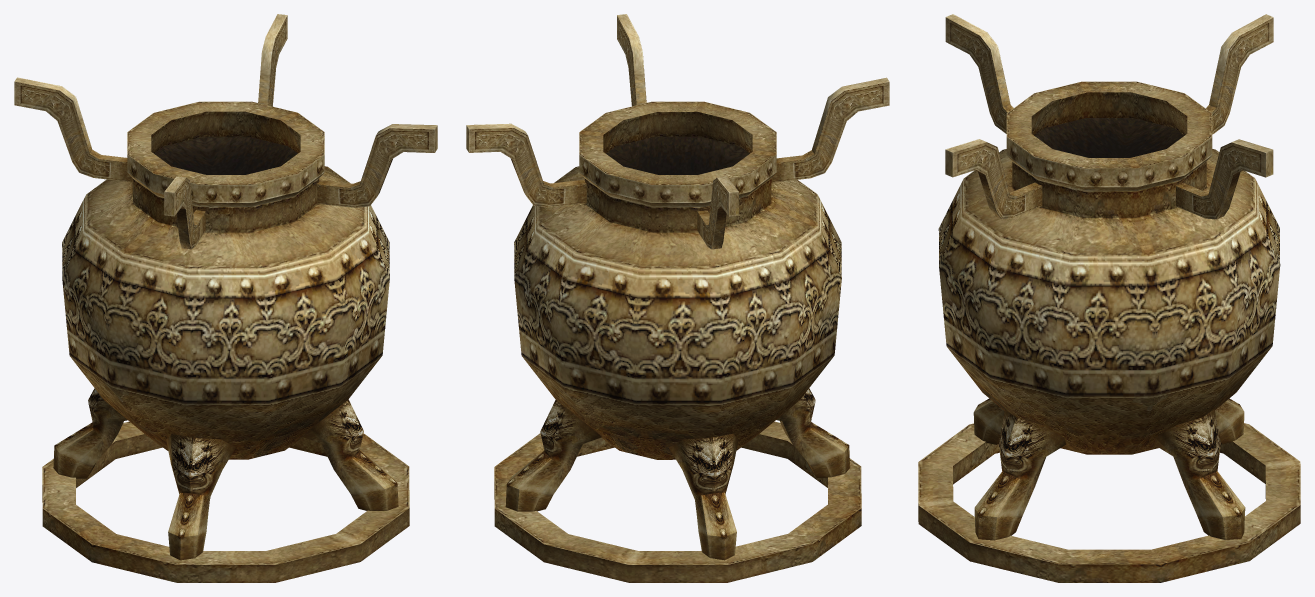
Rendered from otherworld_brazier_01.fbx.
3 views of the same model, side by side, from view 1: azimuth 30°, elevation 25°; view 2: azimuth 150°, elevation 25°; view 3: azimuth 270°, elevation 25° (orthographic). The views are drawn at different scales.
Parts seen in each view (by area): view 1: otherworld_brazier_01; view 2: otherworld_brazier_01; view 3: otherworld_brazier_01.
Boxes of the visible parts, x1=… form: otherworld_brazier_01: x1=14, y1=14, x2=437, y2=582; otherworld_brazier_01: x1=466, y1=14, x2=889, y2=582; otherworld_brazier_01: x1=918, y1=14, x2=1300, y2=582.
Bounding box in the file's own units: 3.18 × 3.84 × 3.18.
